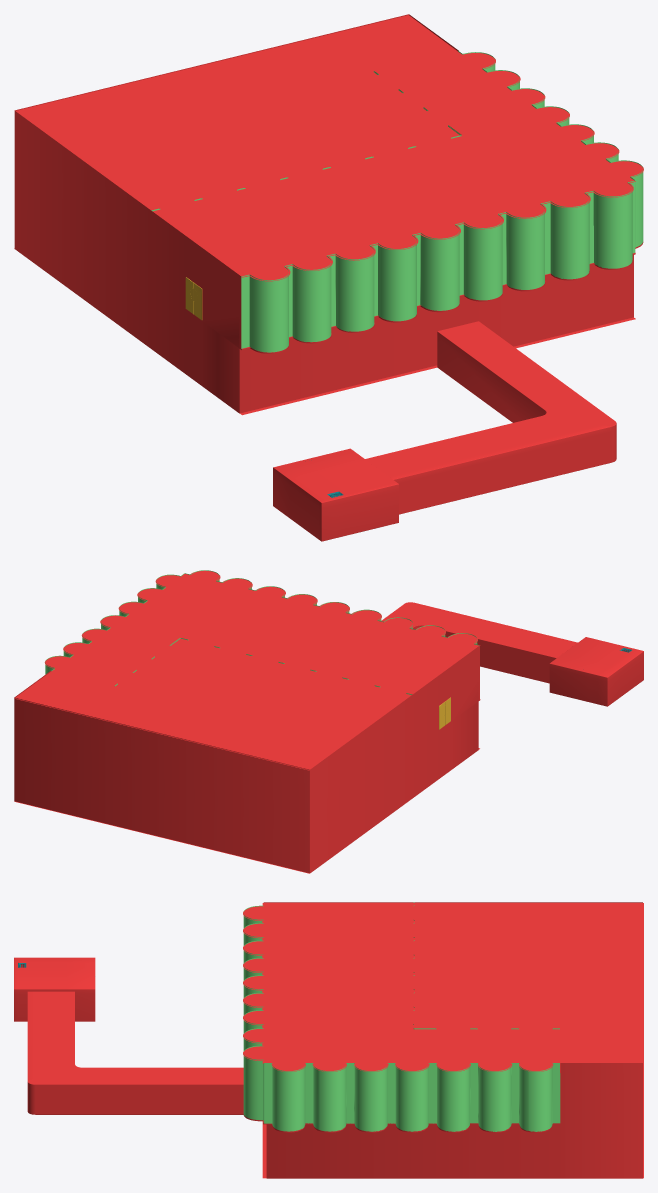
The model's file is Restaurant-Kitchen.fbx.
3 views of the same model, one above another, from view 1: azimuth 30°, elevation 25°; view 2: azimuth 150°, elevation 25°; view 3: azimuth 270°, elevation 25° (orthographic). The views are drawn at different scales.
Visible parts, largest first — view 1: Ceiling, Walls (×2), SecondFloorWalls, KitchenHallway, Floor, SecondFloor; view 2: Walls (×2), Ceiling, KitchenHallway, SecondFloorWalls; view 3: Ceiling, Walls (×2), SecondFloorWalls, KitchenHallway, SecondFloor, Floor.
Boxes of the visible parts, x1,y1,x2,y2 form: Ceiling: (14, 15, 643, 281); Walls (×2): (14, 14, 633, 541); SecondFloorWalls: (151, 50, 643, 352); KitchenHallway: (365, 321, 616, 514); Floor: (14, 248, 635, 415); SecondFloor: (189, 242, 643, 353); Walls (×2): (14, 637, 643, 873); Ceiling: (14, 570, 480, 770); KitchenHallway: (381, 602, 577, 683); SecondFloorWalls: (45, 570, 479, 694); Ceiling: (243, 903, 643, 1071); Walls (×2): (14, 902, 642, 1178); SecondFloorWalls: (243, 902, 560, 1131); KitchenHallway: (27, 991, 243, 1114); SecondFloor: (243, 1115, 560, 1132); Floor: (262, 1063, 643, 1178).
Bounding box in the file's own units: 71.56 × 19.64 × 96.51.
